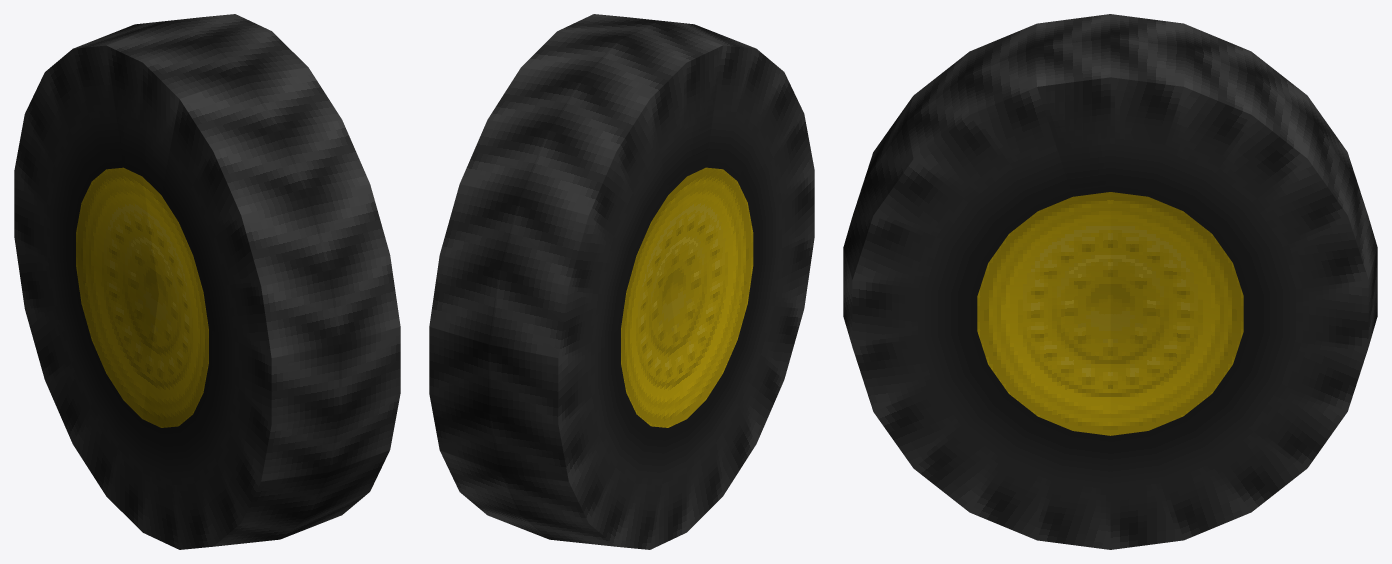
Rendered from RuedaD.obj.
The picture shows the model from 3 angles, left to right: view 1: azimuth 30°, elevation 25°; view 2: azimuth 150°, elevation 25°; view 3: azimuth 270°, elevation 25°; orthographic projection.
Visible parts, largest first — view 1: Tractor; view 2: Tractor; view 3: Tractor.
Boxes of the visible parts, box(x1,y1,x2,y2) form: Tractor: box(14, 14, 400, 549); Tractor: box(429, 14, 814, 549); Tractor: box(843, 14, 1377, 549).
Bounding box in the file's own units: 0.2106 × 0.7511 × 0.7434.
